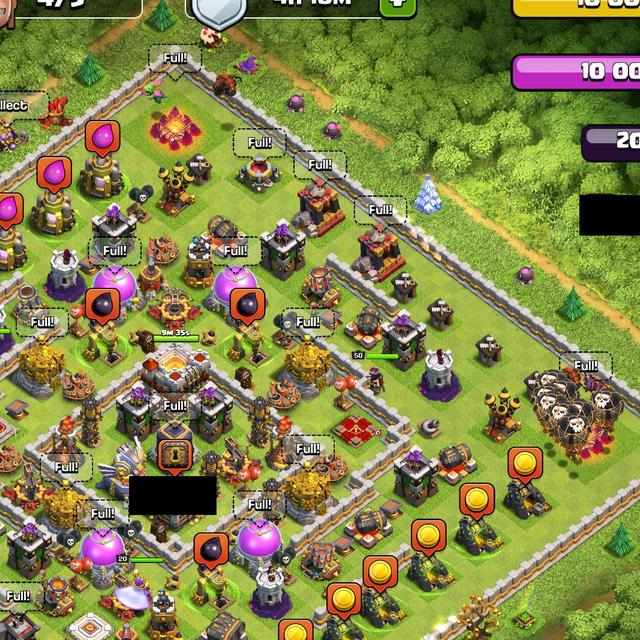FullCoin: (508, 447, 542, 487), (411, 520, 446, 558), (364, 556, 399, 594), (460, 482, 494, 521), (328, 584, 362, 620), (279, 618, 312, 640)
FullElixir: (38, 156, 72, 195), (86, 121, 120, 159), (1, 193, 22, 231)
FullElixirNegro: (85, 290, 120, 328), (230, 288, 264, 327)
